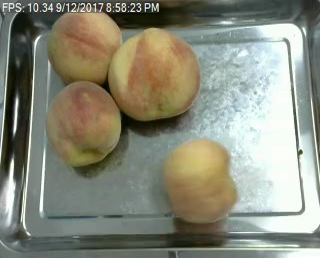Peach: (108, 27, 200, 121), (46, 80, 121, 167), (163, 138, 238, 223), (48, 7, 122, 84)
